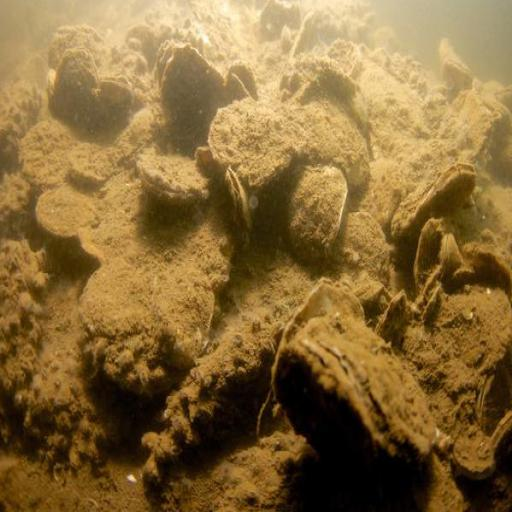Oyster-Closed: (276, 318, 439, 489), (83, 232, 213, 398), (425, 283, 512, 409), (274, 281, 361, 399), (211, 97, 303, 188), (295, 104, 369, 199), (283, 163, 347, 266), (74, 180, 146, 264), (164, 50, 232, 138), (330, 213, 391, 296), (18, 123, 82, 191), (56, 48, 101, 126), (38, 186, 99, 239), (414, 223, 447, 289), (72, 142, 116, 180), (381, 294, 411, 340)
Oyster-Open: (408, 161, 478, 242), (132, 149, 211, 204), (453, 101, 501, 168), (453, 426, 499, 486), (226, 170, 257, 239), (100, 73, 137, 130), (443, 59, 475, 97), (228, 64, 260, 101), (489, 409, 512, 455), (495, 83, 512, 112)
